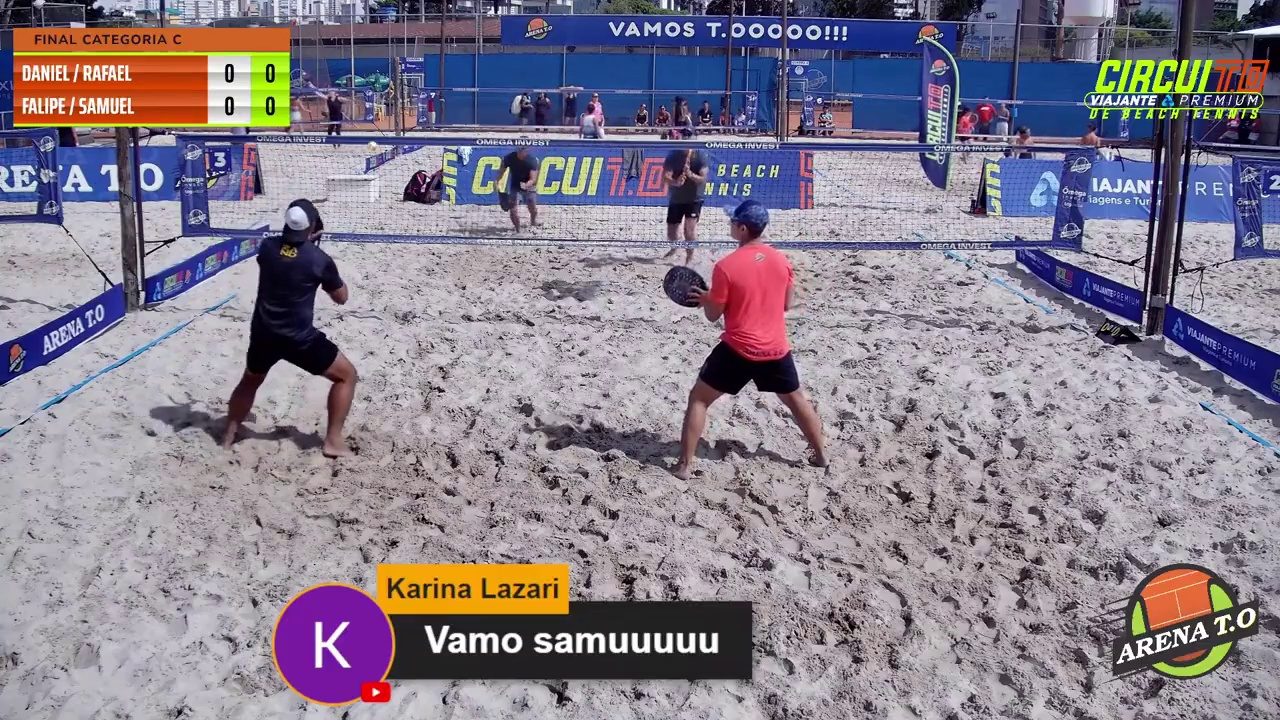court_line: (457, 0, 655, 502), (636, 0, 773, 397)
